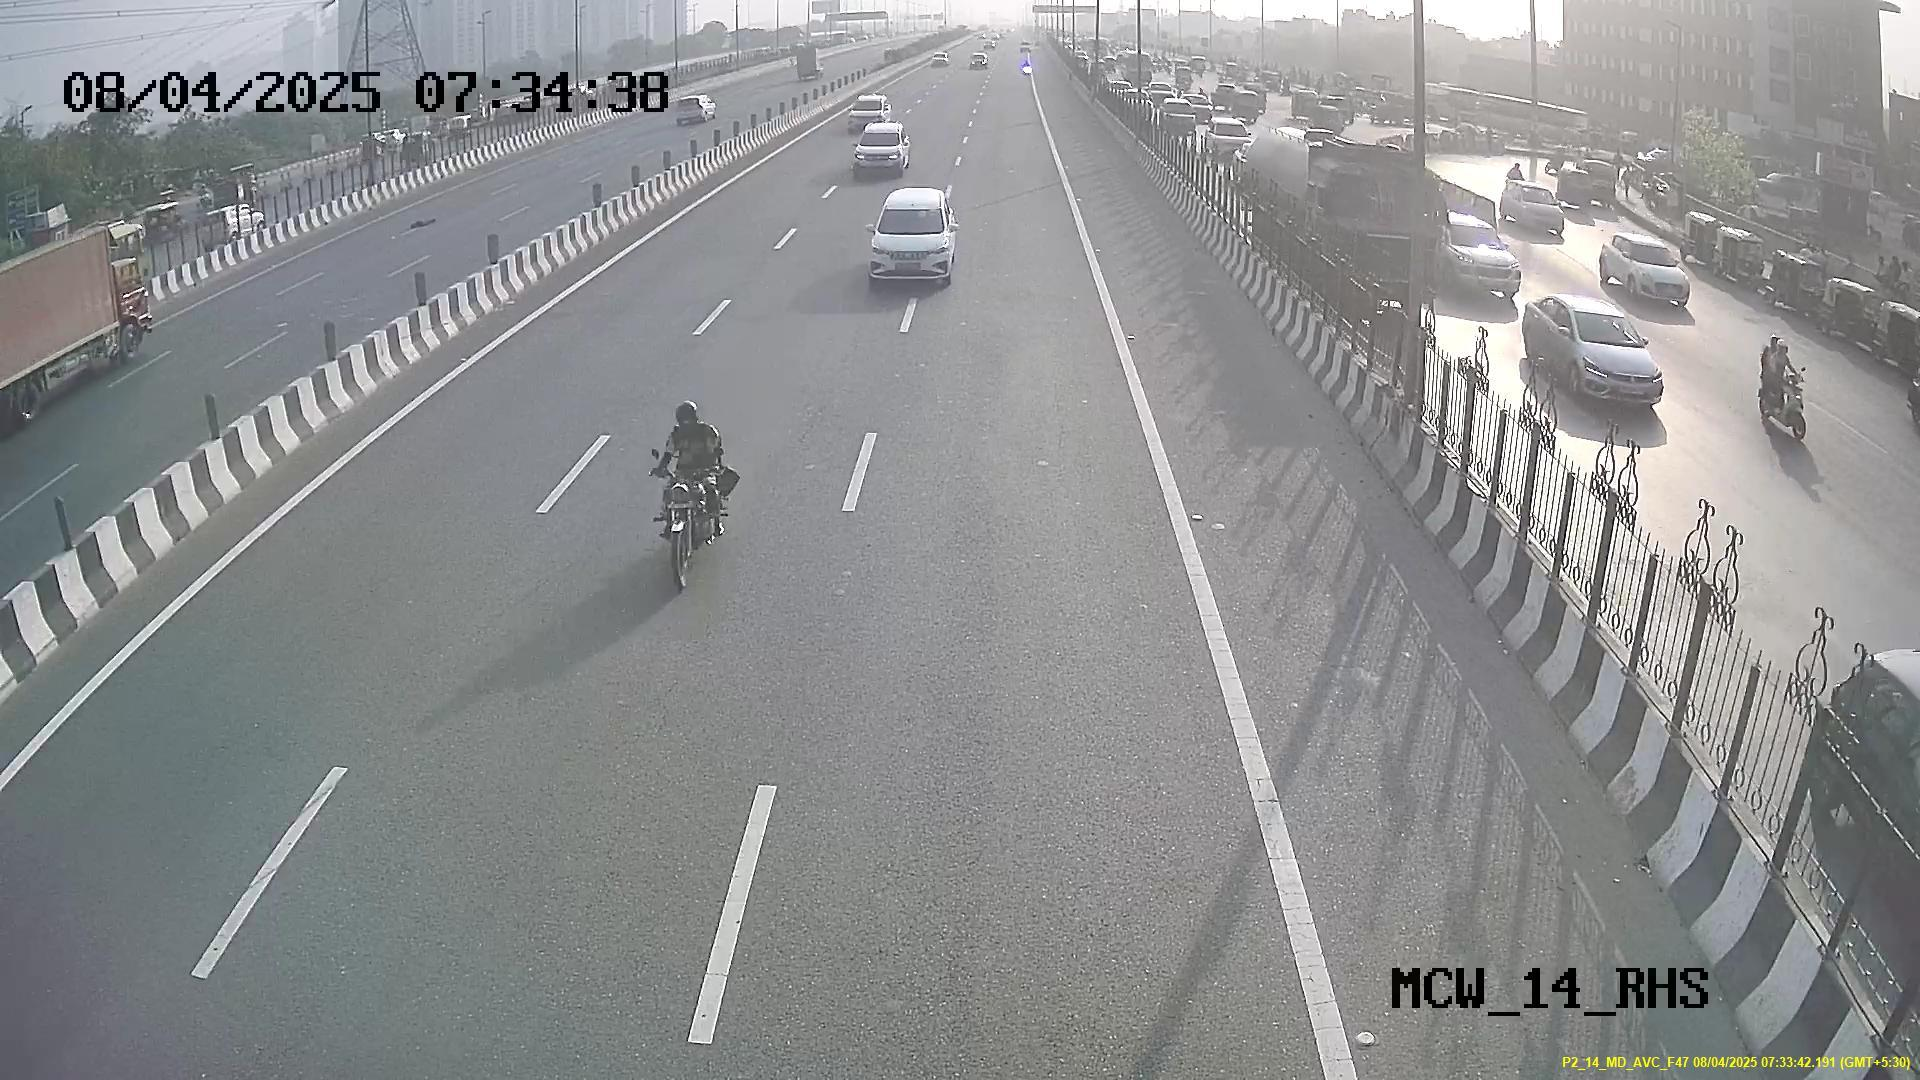bike: (636, 396, 742, 589)
car: (869, 195, 956, 290)
